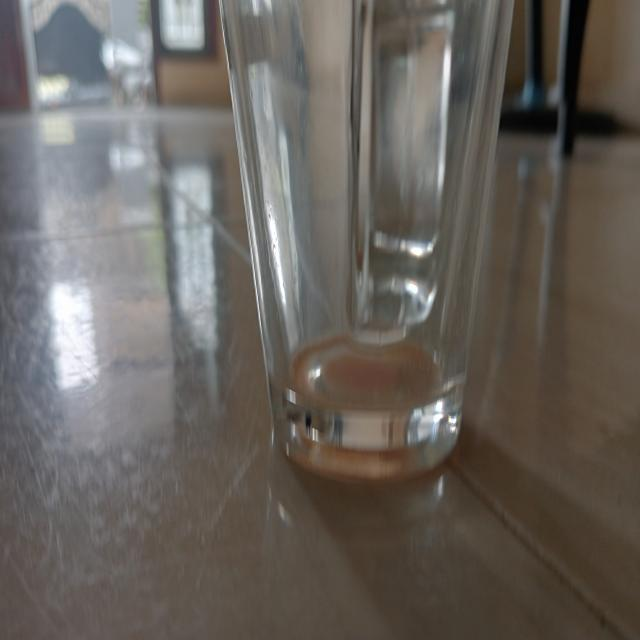glass-VX4N: (215, 2, 516, 490)
